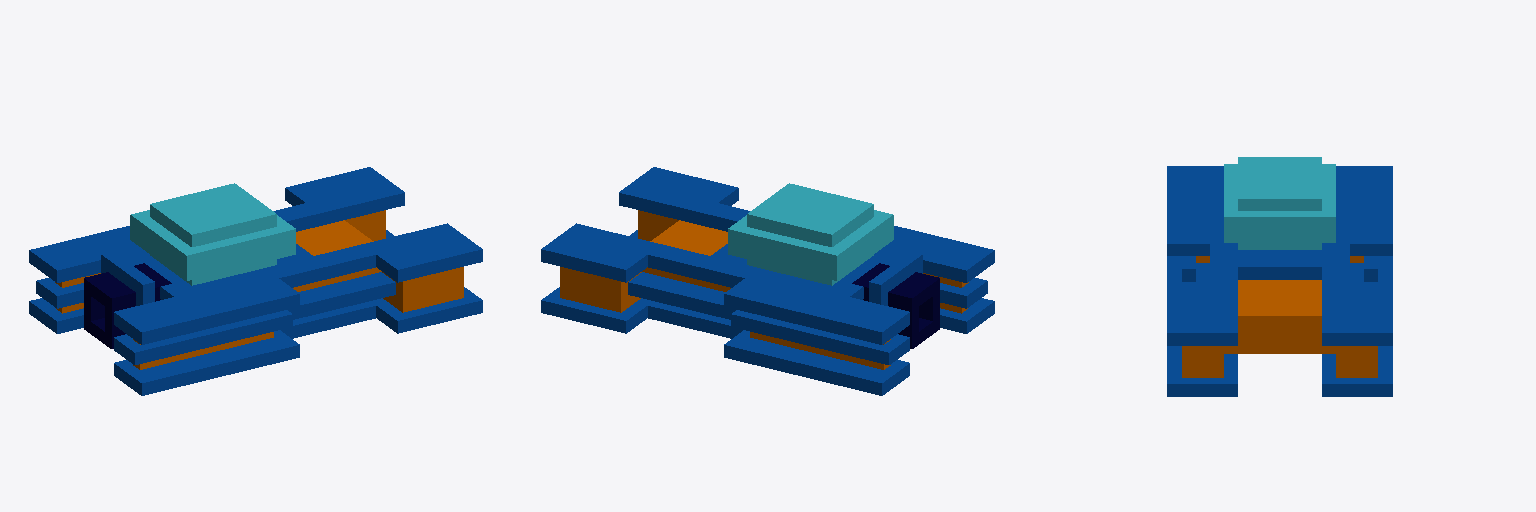
3 renders of one model, left to right at view 1: azimuth 30°, elevation 25°; view 2: azimuth 150°, elevation 25°; view 3: azimuth 270°, elevation 25°, orthographic.
Bounding box in the file's own units: 28 × 9 × 16.
Materials: 1 (1 with a texture image).